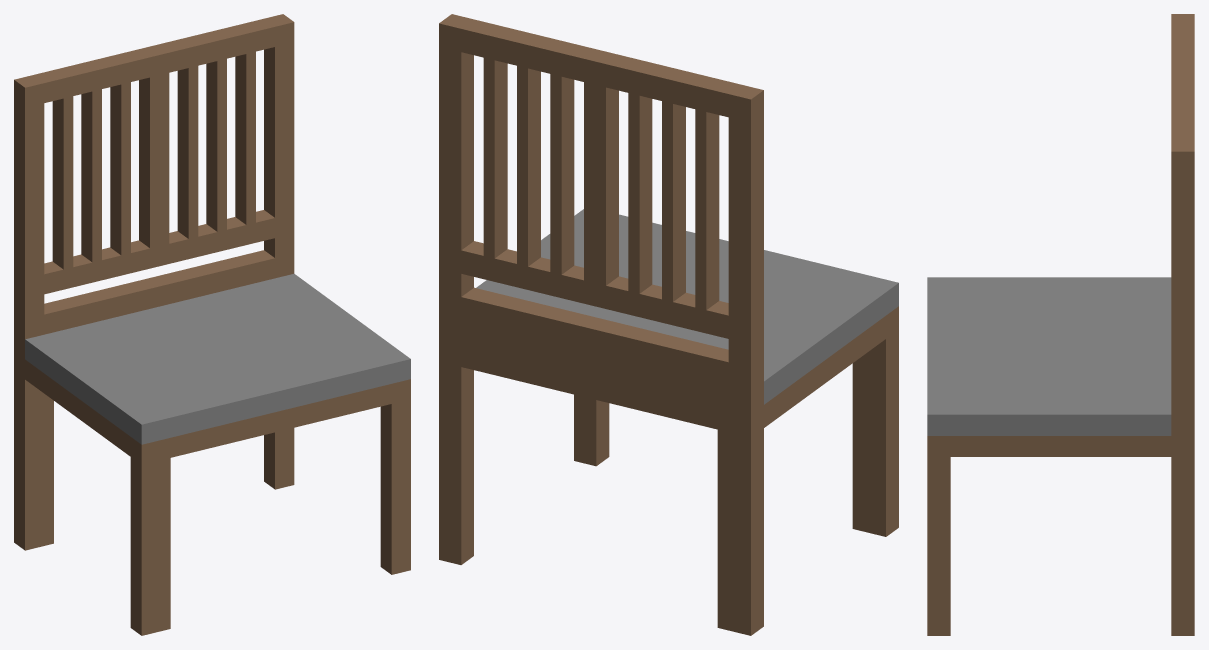
File: chair50.obj
The picture shows the model from 3 angles, left to right: view 1: azimuth 30°, elevation 25°; view 2: azimuth 150°, elevation 25°; view 3: azimuth 270°, elevation 25°; orthographic projection. The views are drawn at different scales.
Size of the model in its own units: 2.8 by 4.6 by 2.3.
Materials: 1 (1 with a texture image).
